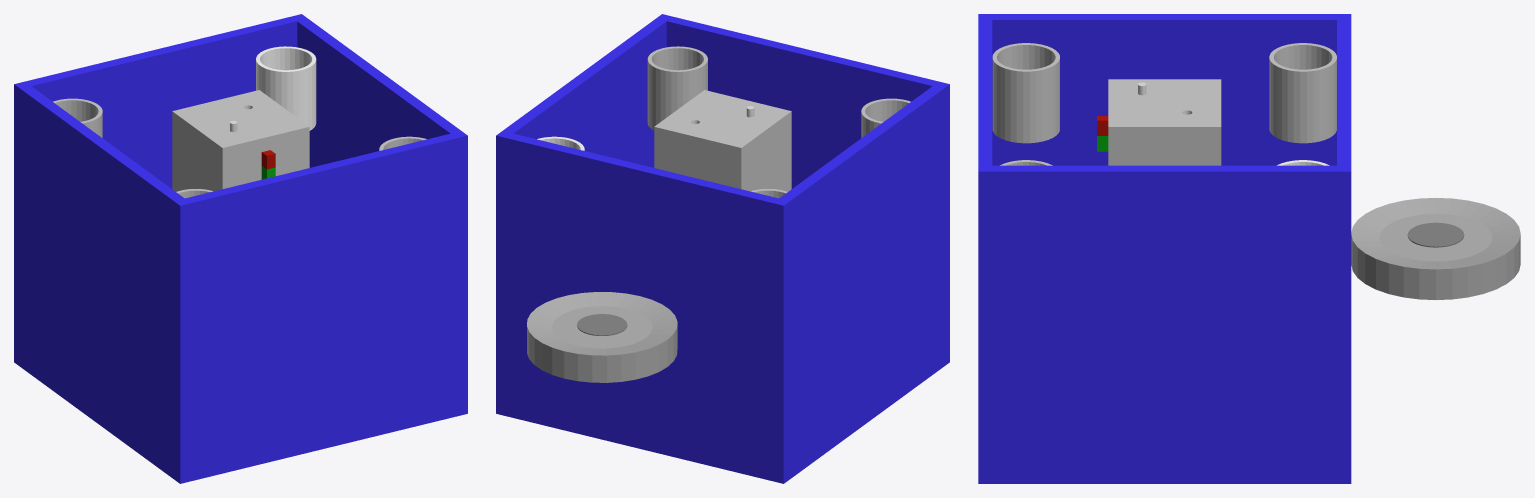
The model's file is readiness_test.dae.
3 renders of one model, left to right at view 1: azimuth 30°, elevation 25°; view 2: azimuth 150°, elevation 25°; view 3: azimuth 270°, elevation 25°, orthographic. The views are drawn at different scales.
Visible parts, largest first — view 1: Milk crate, Wood, Inspect2, Inspect1; view 2: Milk crate, Wood, Cylinder, Inspect4, Inspect3, Cylinder.001; view 3: Milk crate, Cylinder, Wood, Inspect1, Inspect3, Cylinder.001.
Boxes of the visible parts, box(x1,y1,x2,y2) form: Milk crate: box(14, 14, 467, 483); Wood: box(172, 90, 309, 191); Inspect2: box(256, 46, 316, 130); Inspect1: box(53, 98, 102, 137); Milk crate: box(496, 14, 949, 483); Wood: box(654, 90, 791, 191); Cylinder: box(527, 292, 677, 382); Inspect4: box(647, 46, 707, 130); Inspect3: box(861, 98, 910, 137); Cylinder.001: box(577, 314, 627, 335); Milk crate: box(978, 14, 1351, 483); Cylinder: box(1351, 198, 1520, 299); Wood: box(1108, 79, 1221, 165); Inspect1: box(1269, 43, 1336, 143); Inspect3: box(992, 43, 1059, 143); Cylinder.001: box(1407, 222, 1464, 247).
Bounding box in the file's own units: 0.33 × 0.48 × 0.305.
